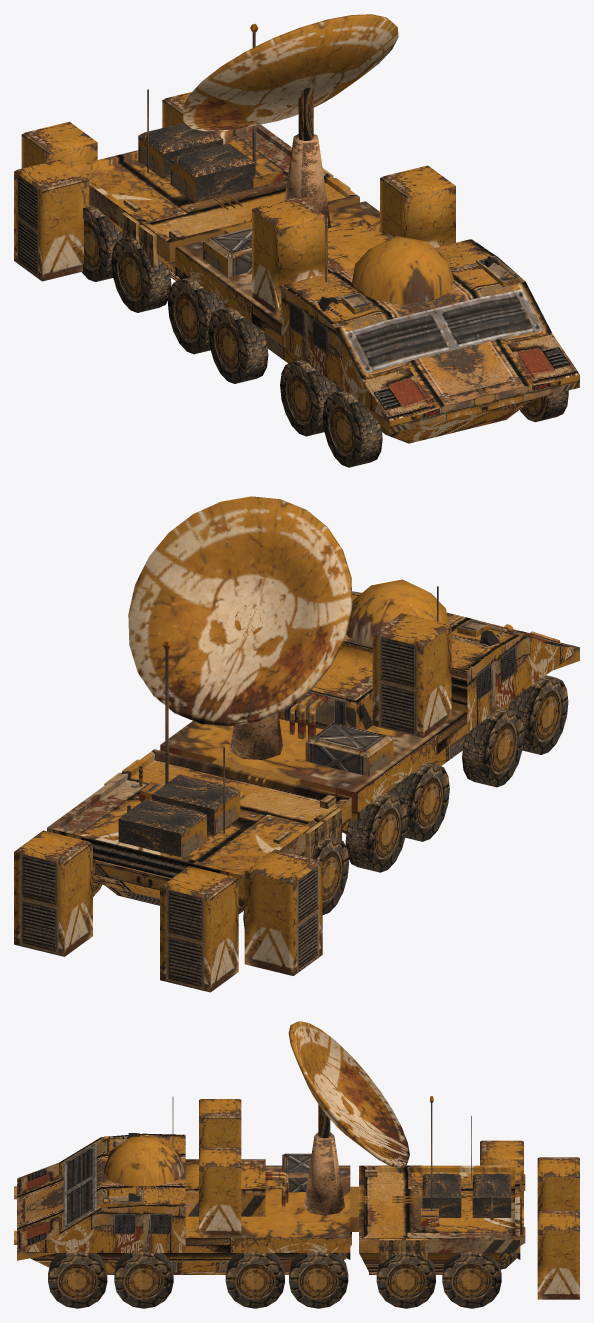
Rendered from tec_vehicle.dae.
3 renders of one model, top to bottom at view 1: azimuth 30°, elevation 25°; view 2: azimuth 150°, elevation 25°; view 3: azimuth 270°, elevation 25°, orthographic. The views are drawn at different scales.
Parts seen in each view (by area): view 1: tecnical; view 2: tecnical; view 3: tecnical.
Boxes of the visible parts, left/top/right/bottom form: tecnical: left=14, top=14, right=579, bottom=467; tecnical: left=14, top=496, right=579, bottom=992; tecnical: left=14, top=1021, right=579, bottom=1308.
Bounding box in the file's own units: 14.64 × 34.77 × 16.58.
